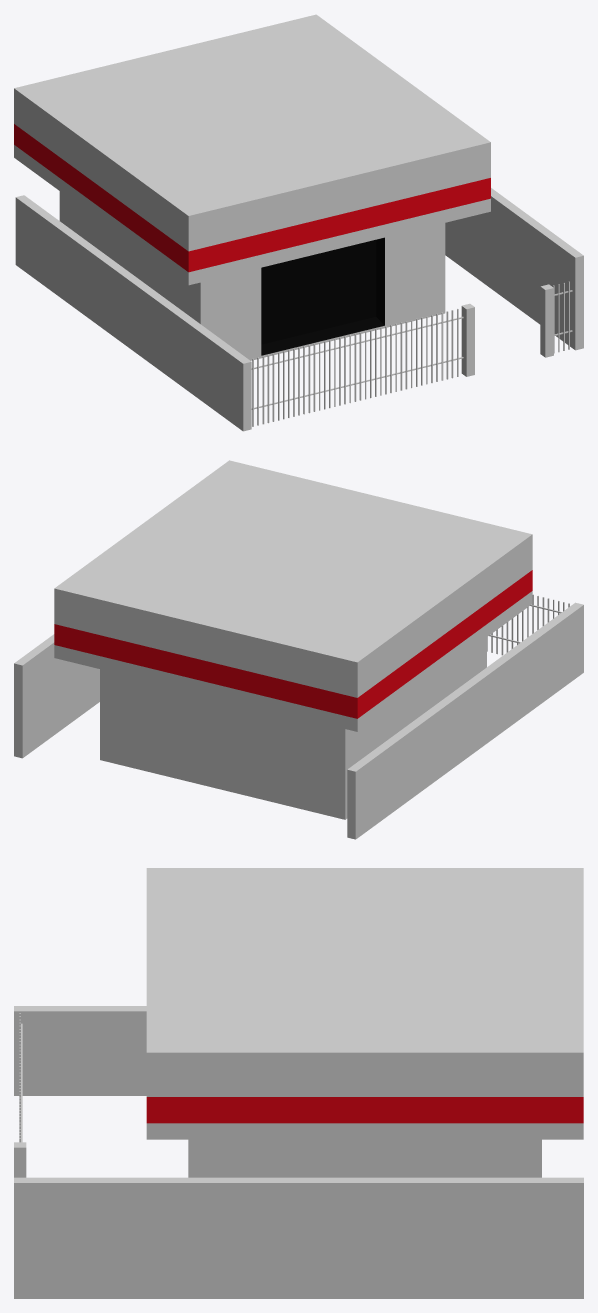
The model's file is loja_11.fbx.
3 views of the same model, one above another, from view 1: azimuth 30°, elevation 25°; view 2: azimuth 150°, elevation 25°; view 3: azimuth 270°, elevation 25° (orthographic). The views are drawn at different scales.
Visible parts, largest first — view 1: Cube; view 2: Cube; view 3: Cube.
Part boxes in pixels (x1,y1,x2,y2): Cube: (14,14,583,431); Cube: (14,460,583,839); Cube: (14,868,583,1298).
Bounding box in the file's own units: 2574 × 1272 × 2965.
